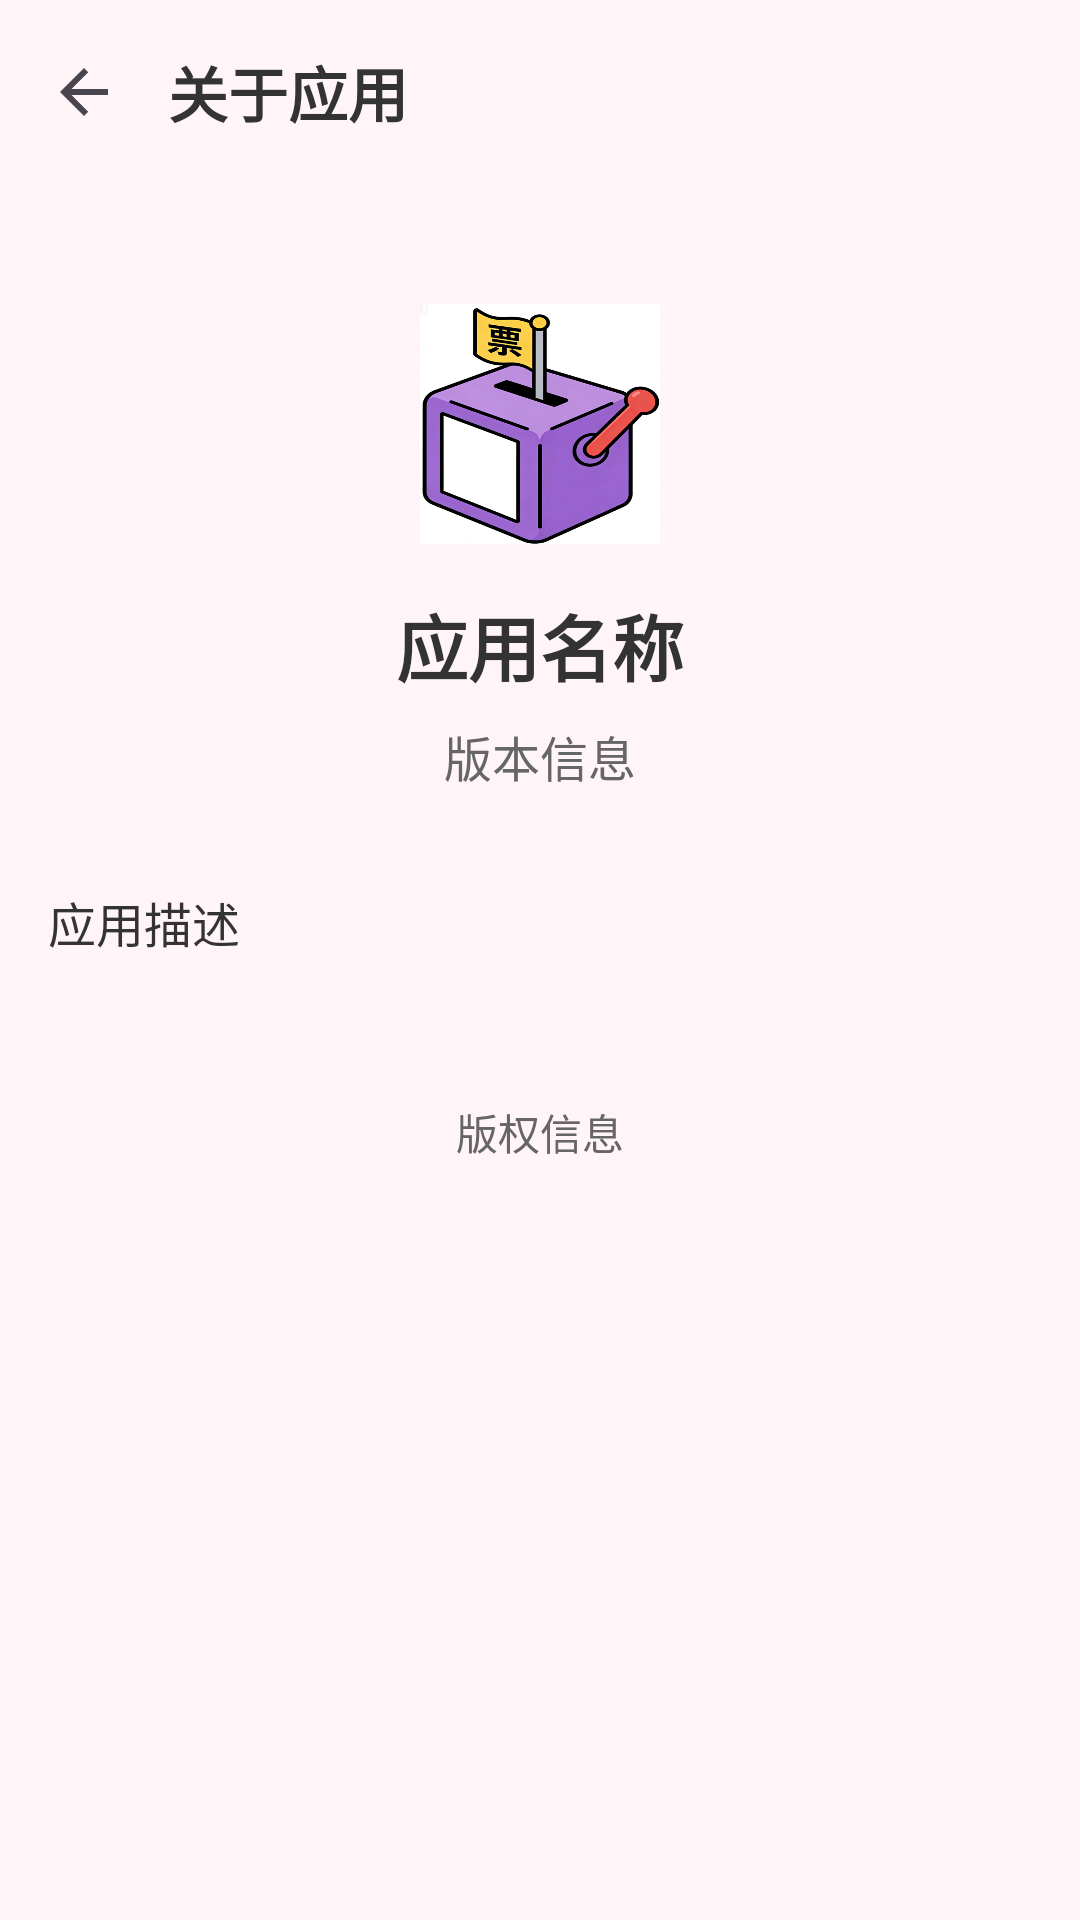

Icon bounding boxes for this 1080x1920 phone screenshot, format (x1, y1, x2, y2):
返回: (60, 68, 108, 116)
